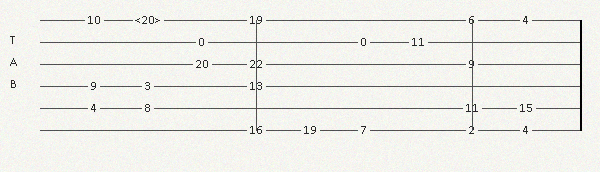0: (198, 36, 209, 48), (360, 36, 371, 48)
10: (87, 14, 105, 26)
11: (411, 36, 429, 48), (465, 102, 483, 114)
13: (249, 80, 267, 92)
15: (519, 102, 537, 114)
16: (249, 124, 267, 136)
19: (249, 14, 267, 26), (303, 124, 321, 136)
2: (468, 124, 479, 136)
20: (195, 58, 213, 70)
22: (249, 58, 267, 70)
3: (144, 80, 155, 92)
4: (90, 102, 101, 114), (522, 14, 533, 26), (522, 124, 533, 136)
6: (468, 14, 479, 26)
7: (360, 124, 371, 136)
8: (144, 102, 155, 114)
9: (90, 80, 101, 92), (468, 58, 479, 70)
harmonic: (135, 14, 165, 26)
